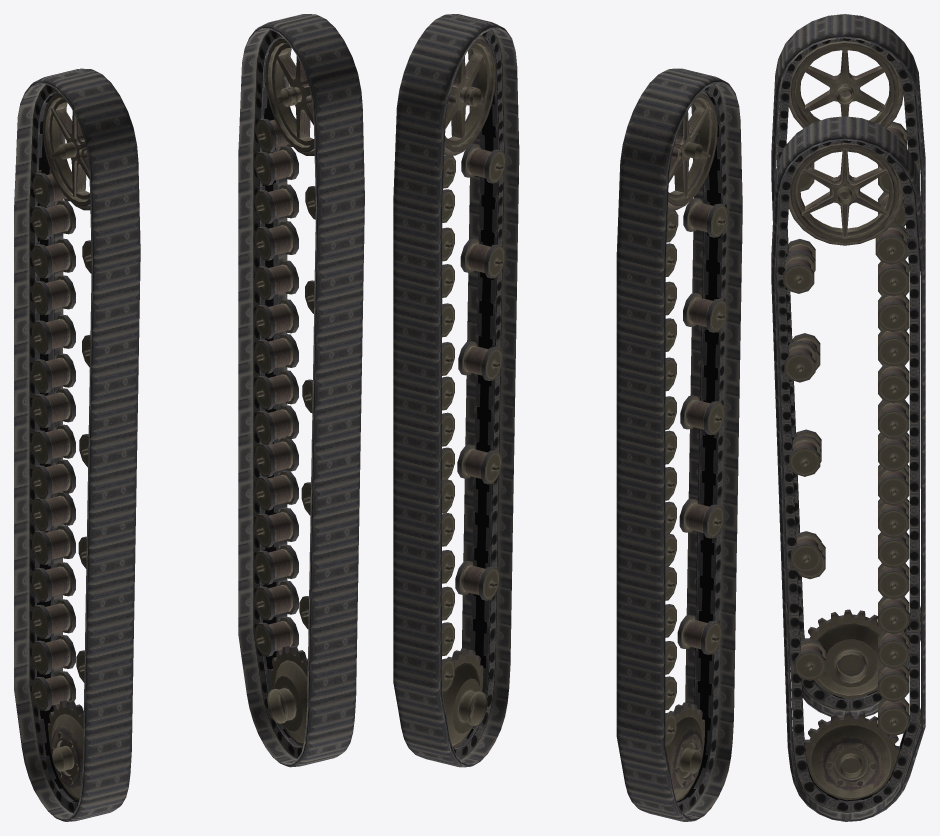
File: Chassis.glb
The picture shows the model from 3 angles, left to right: view 1: azimuth 30°, elevation 25°; view 2: azimuth 150°, elevation 25°; view 3: azimuth 270°, elevation 25°; orthographic projection. The views are drawn at different scales.
Parts seen in each view (by area): view 1: set_3_group_0, set_2_group_0, set_0_group_0, set_1_group_0; view 2: set_3_group_0, set_2_group_0, set_0_group_0, set_1_group_0; view 3: set_0_group_0, set_2_group_0, set_1_group_0, set_3_group_0.
Part boxes in pixels (bbox=[...]): set_3_group_0: bbox=[14, 68, 140, 821]; set_2_group_0: bbox=[238, 14, 364, 767]; set_0_group_0: bbox=[254, 37, 315, 746]; set_1_group_0: bbox=[31, 92, 91, 800]; set_3_group_0: bbox=[616, 68, 742, 821]; set_2_group_0: bbox=[393, 14, 519, 767]; set_0_group_0: bbox=[442, 36, 505, 747]; set_1_group_0: bbox=[665, 91, 727, 801]; set_0_group_0: bbox=[783, 143, 909, 800]; set_2_group_0: bbox=[771, 116, 925, 821]; set_1_group_0: bbox=[785, 40, 909, 698]; set_3_group_0: bbox=[771, 14, 925, 717].
Size of the model in its own units: 1.67 by 4.31 by 0.8776.
4 materials, 4 textured.
